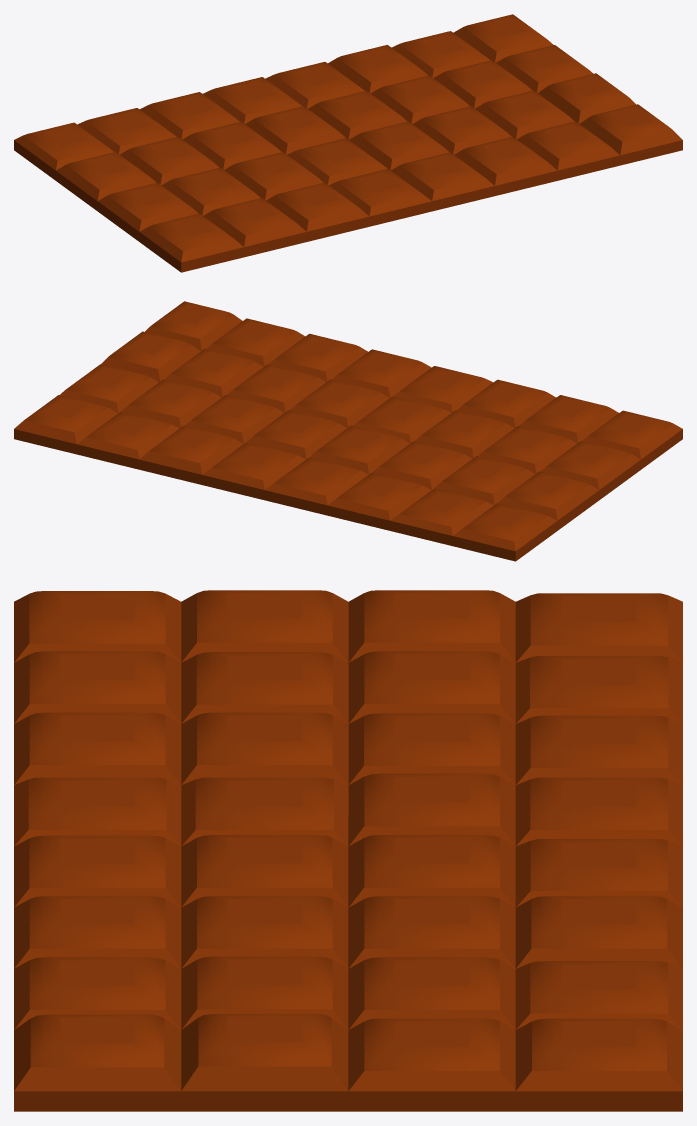
The model's file is All_at_one_food_3.fbx.
3 views of the same model, one above another, from view 1: azimuth 30°, elevation 25°; view 2: azimuth 150°, elevation 25°; view 3: azimuth 270°, elevation 25° (orthographic). The views are drawn at different scales.
Parts seen in each view (by area): view 1: 1. no bite; view 2: 1. no bite; view 3: 1. no bite.
Boxes of the visible parts, x1,y1,x2,y2 form: 1. no bite: [14, 14, 682, 272]; 1. no bite: [14, 301, 682, 561]; 1. no bite: [14, 590, 682, 1111].
Size of what is drawn, in the model's own units: 45.87 by 2.27 by 26.49.
